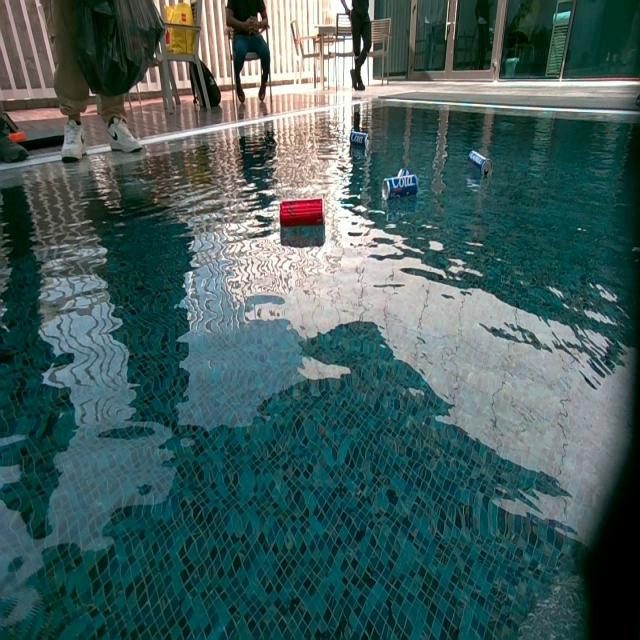Cans: (381, 170, 419, 202), (280, 200, 324, 227), (468, 152, 490, 179), (351, 132, 368, 150)
